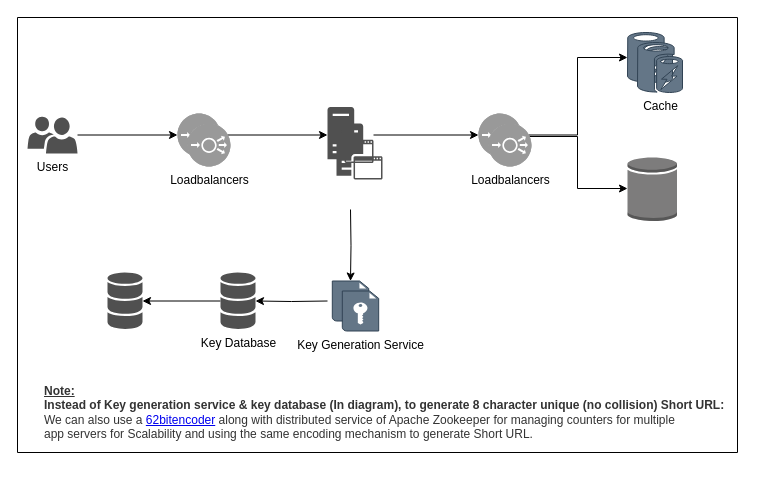
Image size: 760x491. Some labels were removed from this diagram. Here are the shapes that lost their labels. From the top down, the box of each, then its label:
(336, 123, 382, 179): Application Servers
(626, 156, 677, 221): Database
(107, 272, 142, 329): Key Database (Standby)
